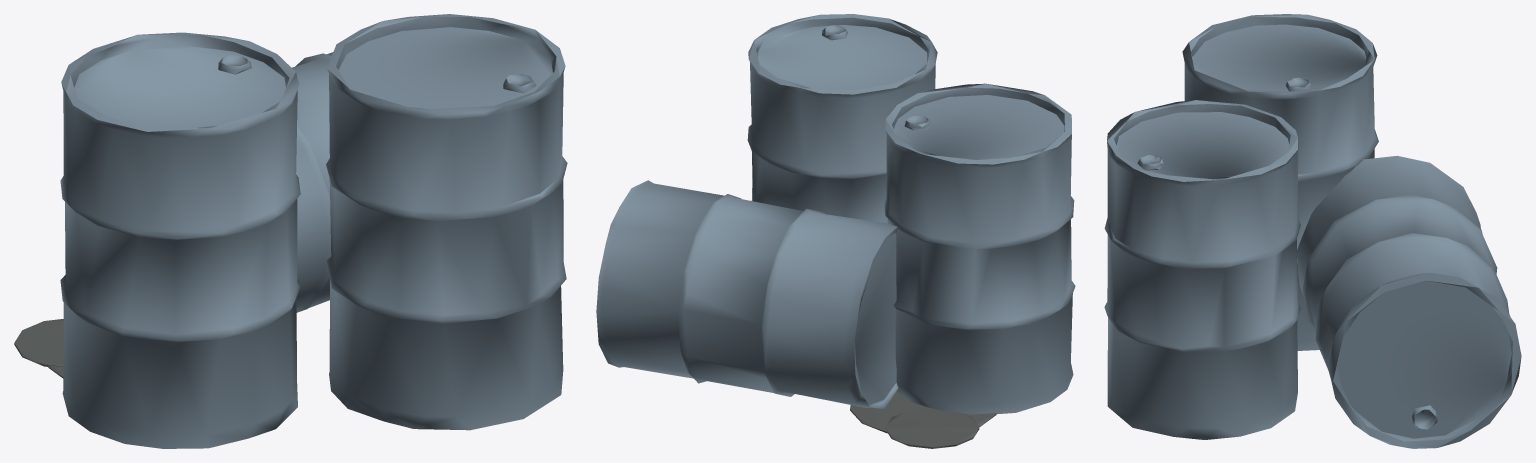
File: Dress_BarrelCluster.fbx
3 renders of one model, left to right at view 1: azimuth 30°, elevation 25°; view 2: azimuth 150°, elevation 25°; view 3: azimuth 270°, elevation 25°, orthographic. The views are drawn at different scales.
Parts seen in each view (by area): view 1: Dress_BarrelCluster; view 2: Dress_BarrelCluster; view 3: Dress_BarrelCluster.
Part boxes in pixels (x1,y1,x2,y2): Dress_BarrelCluster: [14, 14, 567, 448]; Dress_BarrelCluster: [596, 14, 1075, 448]; Dress_BarrelCluster: [1104, 14, 1521, 448].
Size of the model in its own units: 137 by 89.12 by 130.
